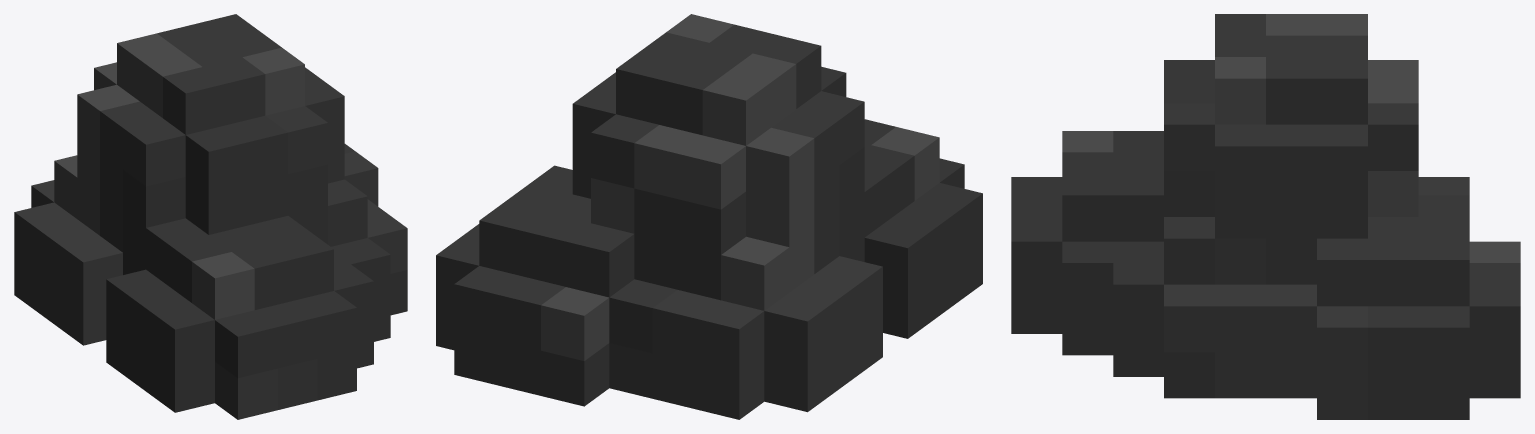
File: CountrySide-8-Rock.obj
3 views of the same model, side by side, from view 1: azimuth 30°, elevation 25°; view 2: azimuth 150°, elevation 25°; view 3: azimuth 270°, elevation 25° (orthographic). The views are drawn at different scales.
Parts seen in each view (by area): view 1: Rock; view 2: Rock; view 3: Rock.
Boxes of the visible parts, <box> form: Rock: <box>14,14,407,419</box>; Rock: <box>436,14,982,419</box>; Rock: <box>1011,14,1520,419</box>.
Bounding box in the file's own units: 0.8 × 0.6 × 1.
1 material, 1 textured.
